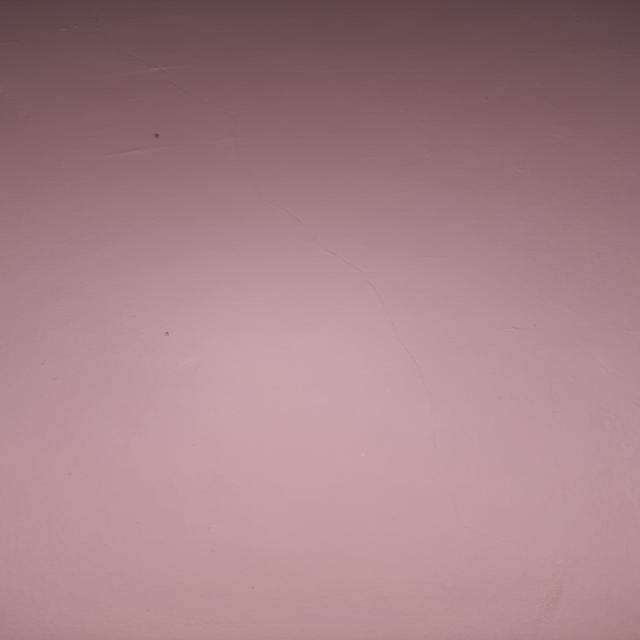Crack: (273, 214, 446, 390)
